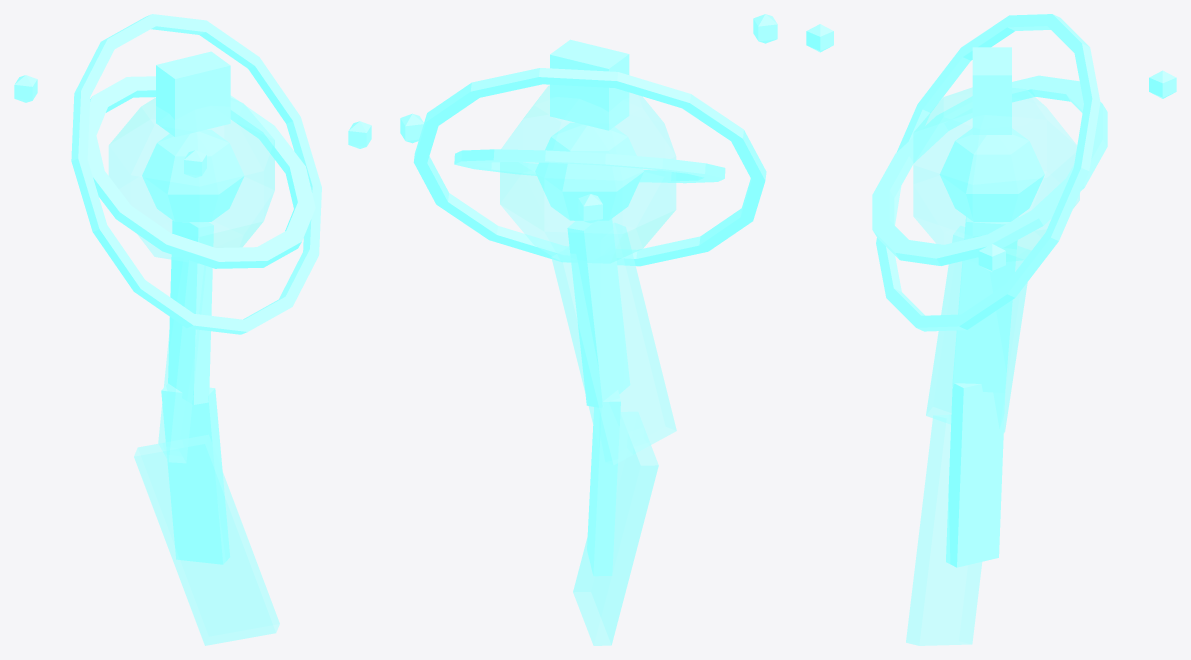
Rendered from gear_norigae_t5_R.glb.
3 views of the same model, side by side, from view 1: azimuth 30°, elevation 25°; view 2: azimuth 150°, elevation 25°; view 3: azimuth 270°, elevation 25° (orthographic). The views are drawn at different scales.
Parts seen in each view (by area): view 1: gear_norigae_t5_R; view 2: gear_norigae_t5_R; view 3: gear_norigae_t5_R.
Boxes of the visible parts, box(x1,y1,x2,y2) form: gear_norigae_t5_R: box(14, 14, 371, 645); gear_norigae_t5_R: box(400, 14, 777, 645); gear_norigae_t5_R: box(806, 14, 1176, 645).
Bounding box in the file's own units: 0.2801 × 0.5039 × 0.281.
